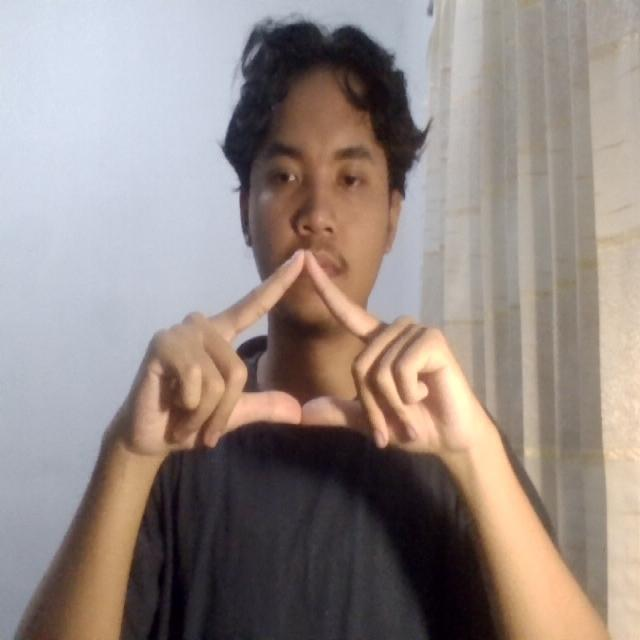A: (105, 235, 487, 480)
